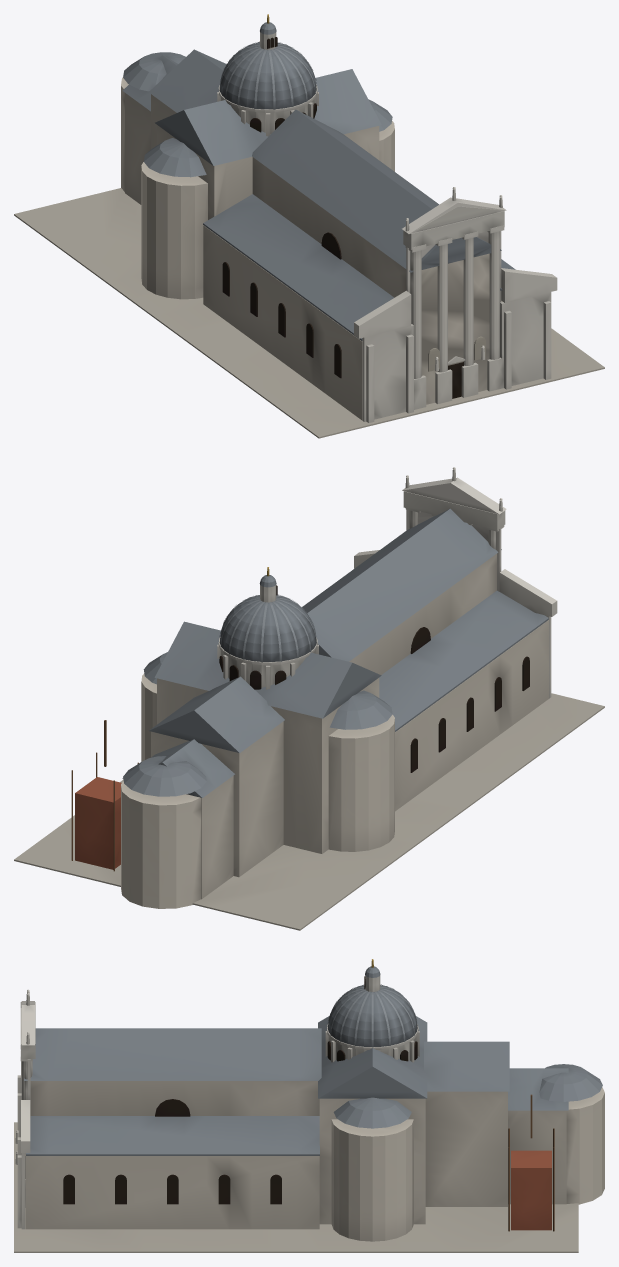
Rendered from san-giorgio.glb.
3 renders of one model, top to bottom at view 1: azimuth 30°, elevation 25°; view 2: azimuth 150°, elevation 25°; view 3: azimuth 270°, elevation 25°, orthographic. The views are drawn at different scales.
Parts seen in each view (by area): view 1: p1_roofs, p0_walls, p2_dome; view 2: p0_walls, p1_roofs, p2_dome; view 3: p0_walls, p1_roofs, p2_dome.
Part boxes in pixels (left/top/right/bottom): p1_roofs: left=122, top=49, right=557, bottom=422; p0_walls: left=14, top=77, right=604, bottom=438; p2_dome: left=217, top=14, right=318, bottom=136; p0_walls: left=14, top=554, right=604, bottom=930; p1_roofs: left=122, top=467, right=557, bottom=797; p2_dome: left=71, top=567, right=318, bottom=871; p0_walls: left=14, top=1081, right=604, bottom=1252; p1_roofs: left=15, top=989, right=602, bottom=1229; p2_dome: left=325, top=959, right=554, bottom=1231.
Size of the model in its own units: 52 by 43.04 by 100.
